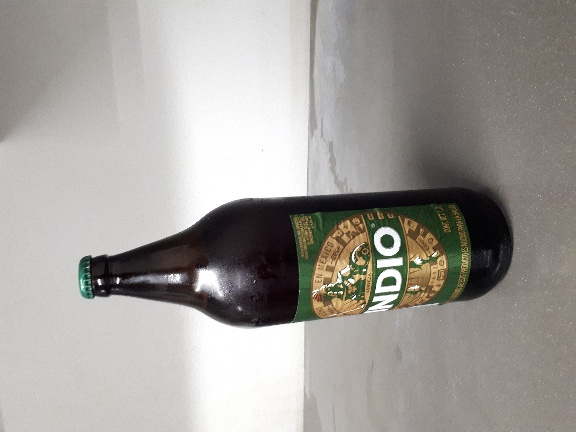SRB: (54, 134, 371, 243)
